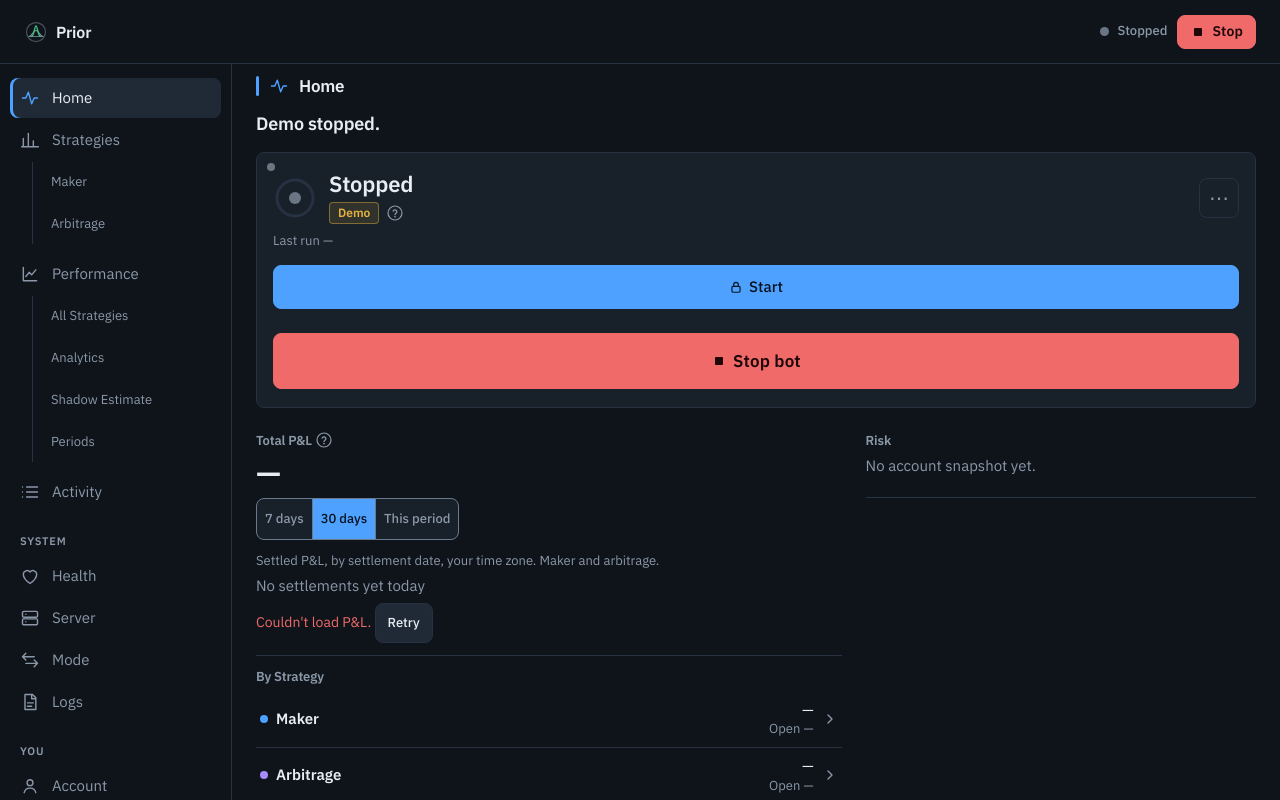
Test: sidebar (>= 1024 px) › navigates, and Stop stays in the header and works
Step 1. Click the link "Strategies" → (70, 140), box [20,130,120,150]
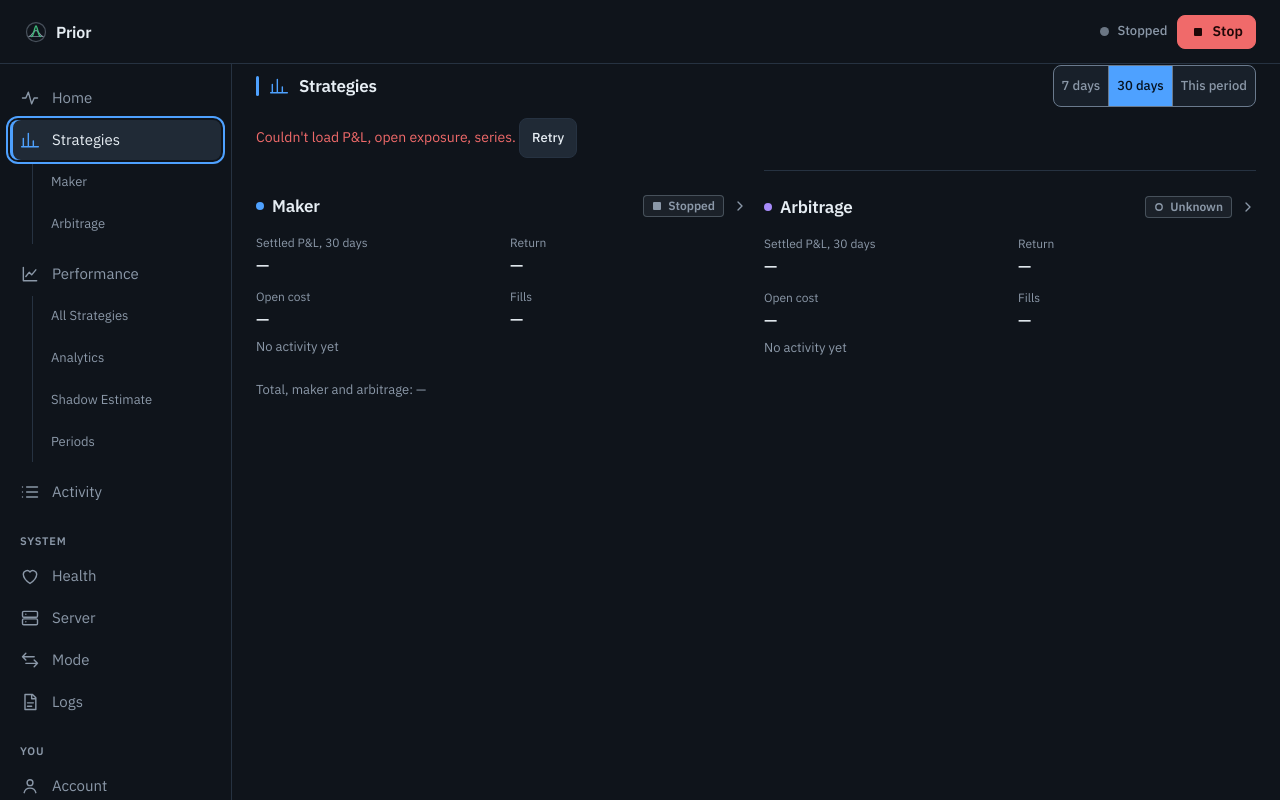
Step 2. Click the button with aria-label "stop the bot" → (1217, 32), box [1178,14,1256,48]
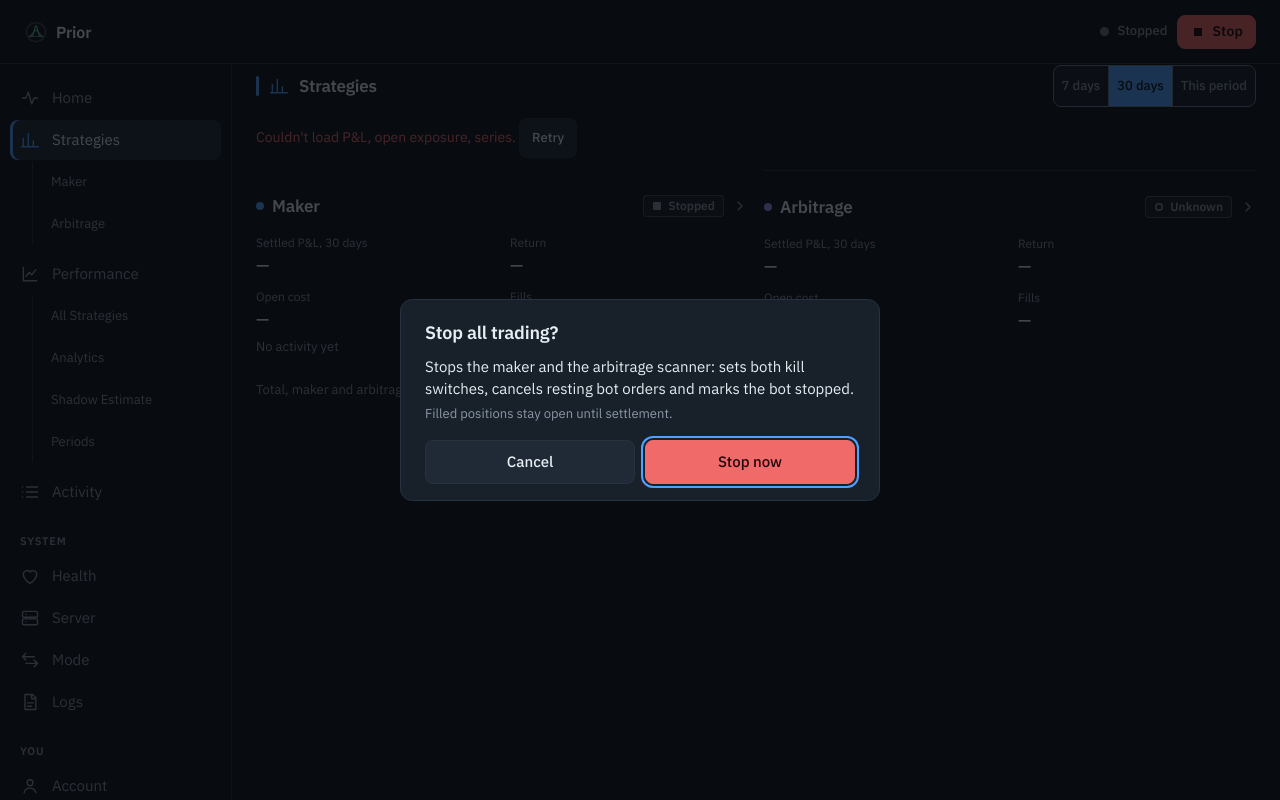
Step 3. Click the button "Stop now" → (750, 462), box [645,440,855,484]
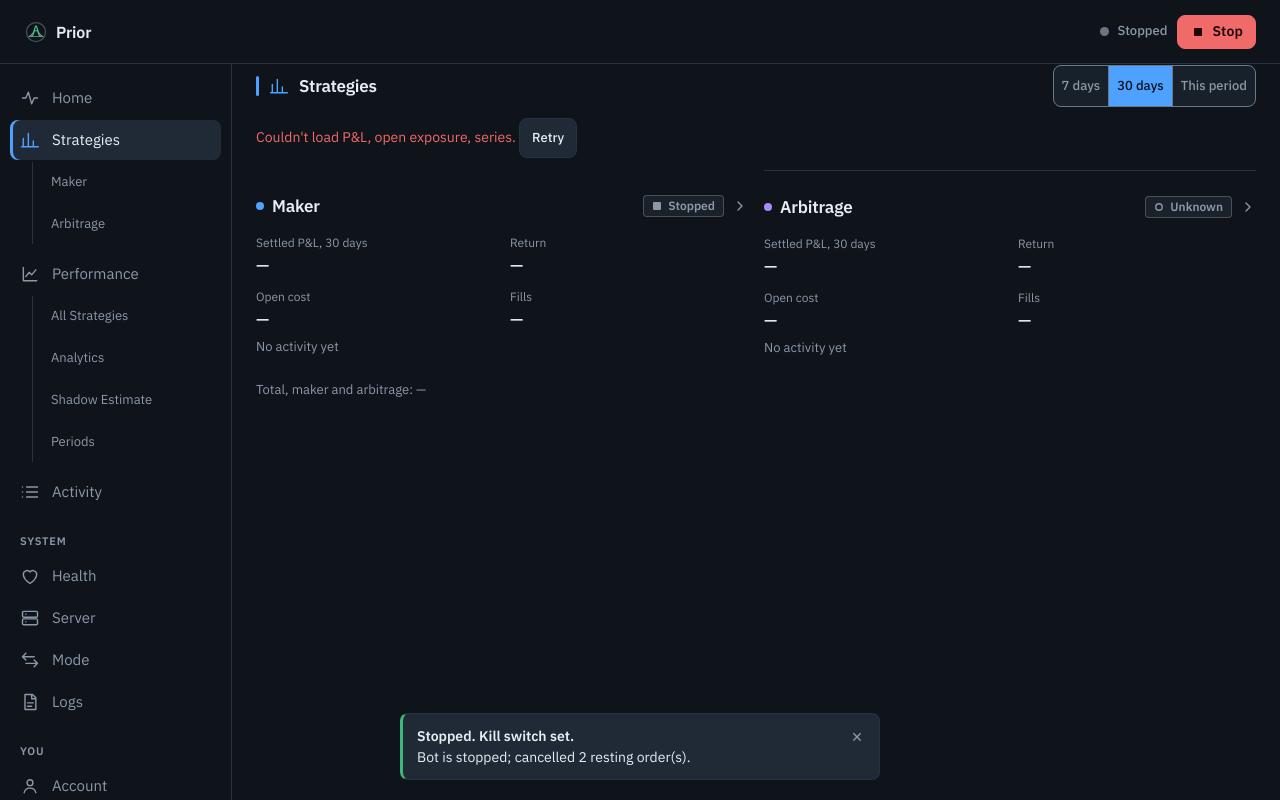
Now the text "Stopped. Kill switch set." is shown, box [417,727,574,745]
